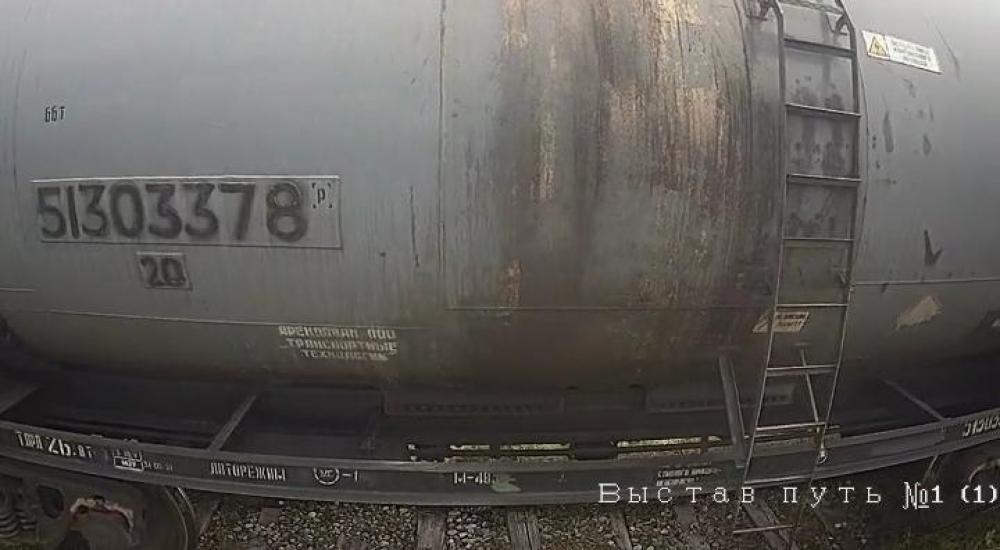Wagon-number: (31, 173, 317, 246)
